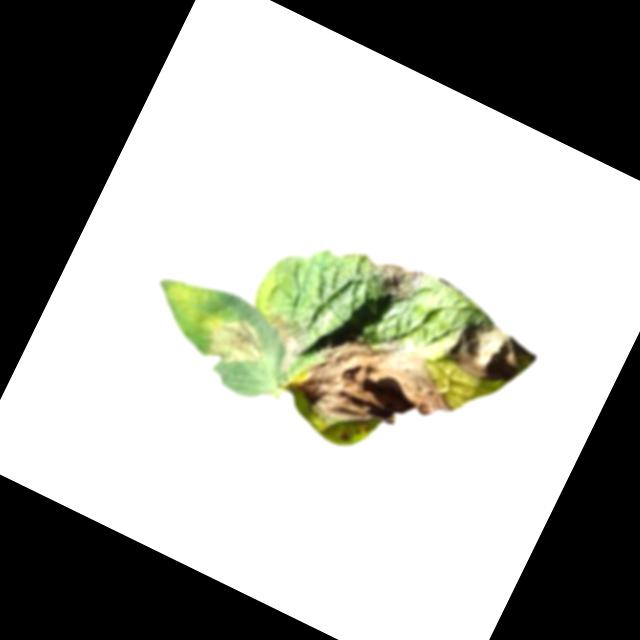Late_blight: (283, 306, 470, 467), (442, 310, 542, 398), (199, 307, 274, 378), (361, 247, 431, 309), (252, 310, 313, 377)
